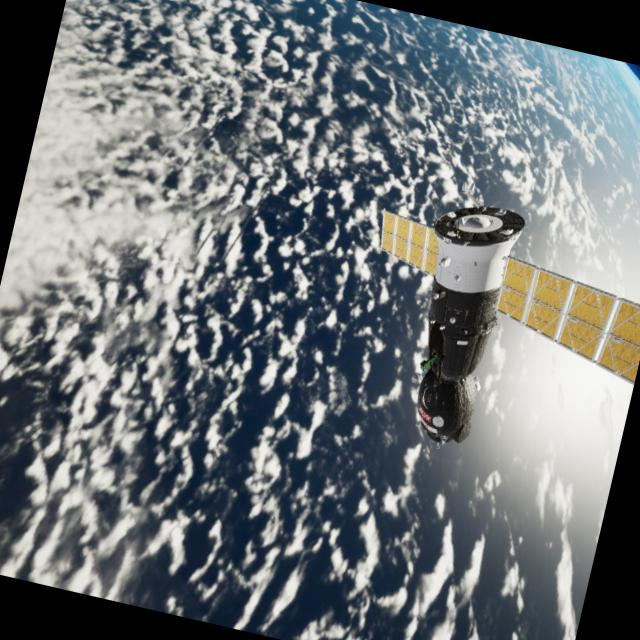Satellites revolving around earth: (384, 190, 530, 454)
